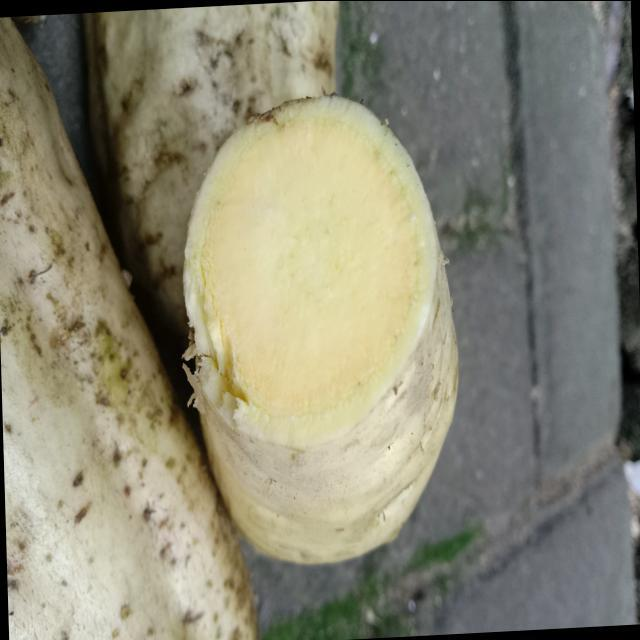Healthy Sweet Potato: (184, 95, 438, 447)
